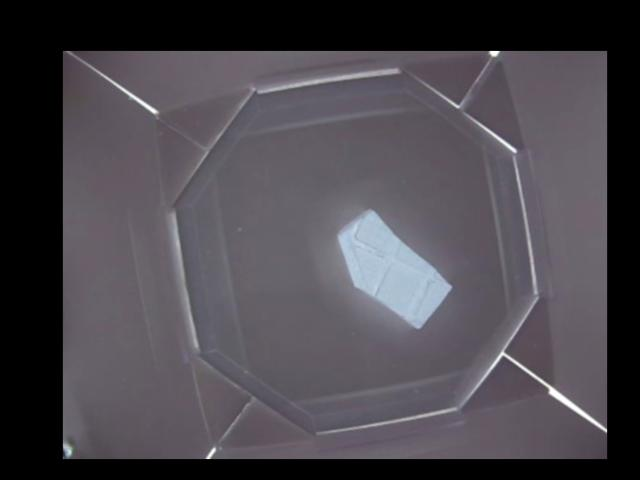China: (338, 211, 453, 330)
